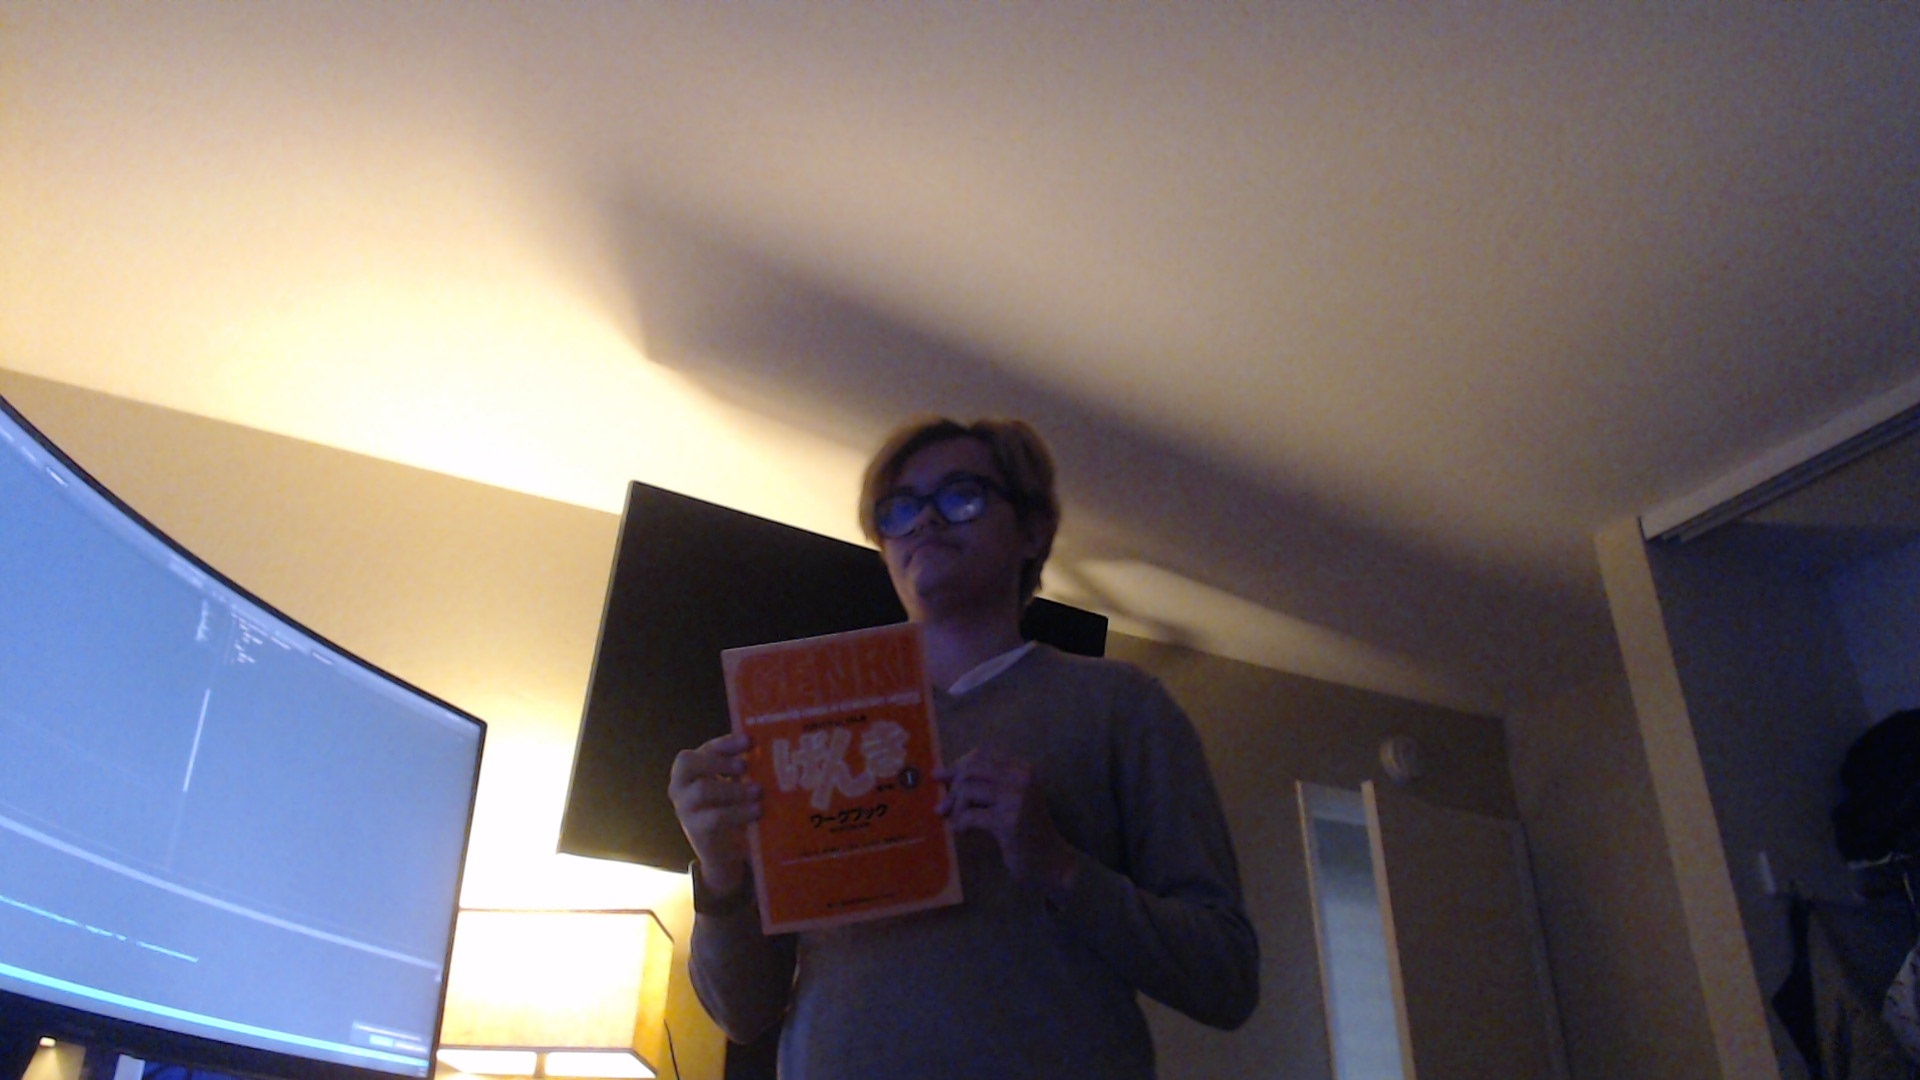book: (721, 622, 967, 938)
